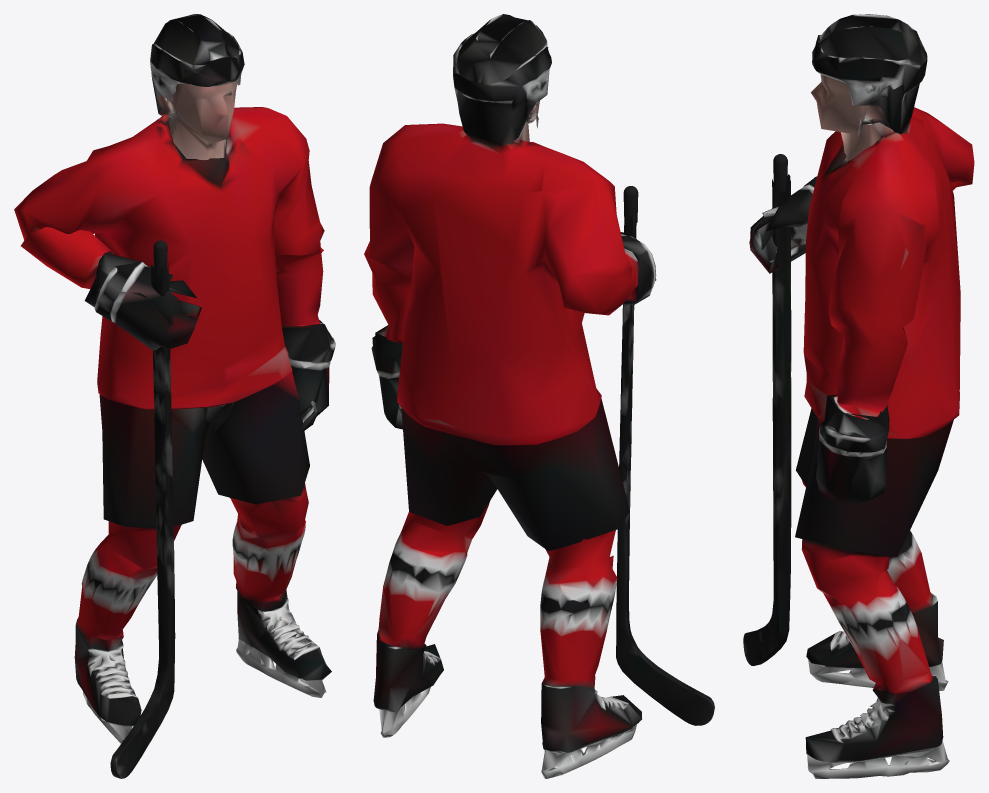
3 renders of one model, left to right at view 1: azimuth 30°, elevation 25°; view 2: azimuth 150°, elevation 25°; view 3: azimuth 270°, elevation 25°, orthographic. The views are drawn at different scales.
Visible parts, largest first — view 1: skater; view 2: skater; view 3: skater.
Boxes of the visible parts, bbox=[...] form: skater: bbox=[14, 14, 335, 778]; skater: bbox=[364, 14, 714, 778]; skater: bbox=[743, 14, 974, 778].
Size of the model in its own units: 0.7821 by 1.87 by 0.5497.
